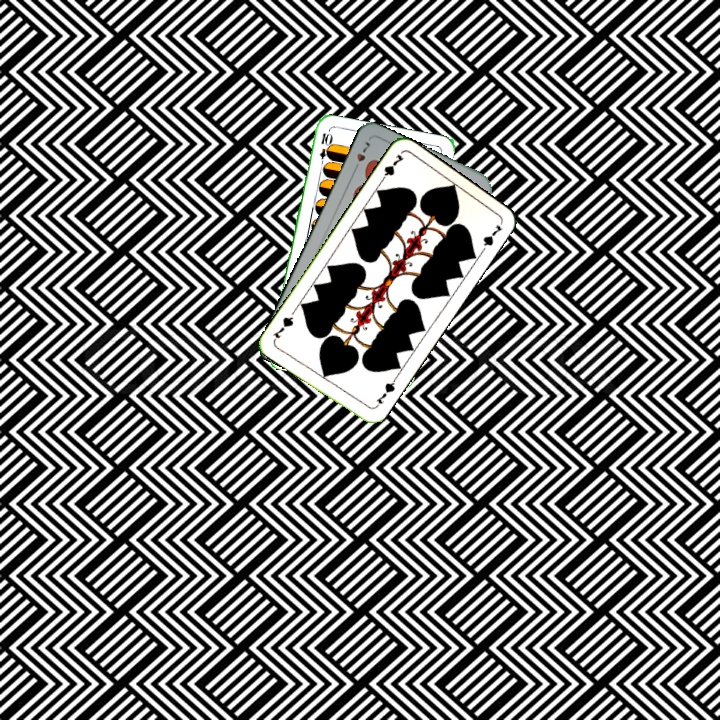E10: (315, 129, 333, 169)
G7: (376, 150, 407, 186), (371, 375, 398, 411)
H7: (349, 137, 372, 174)
